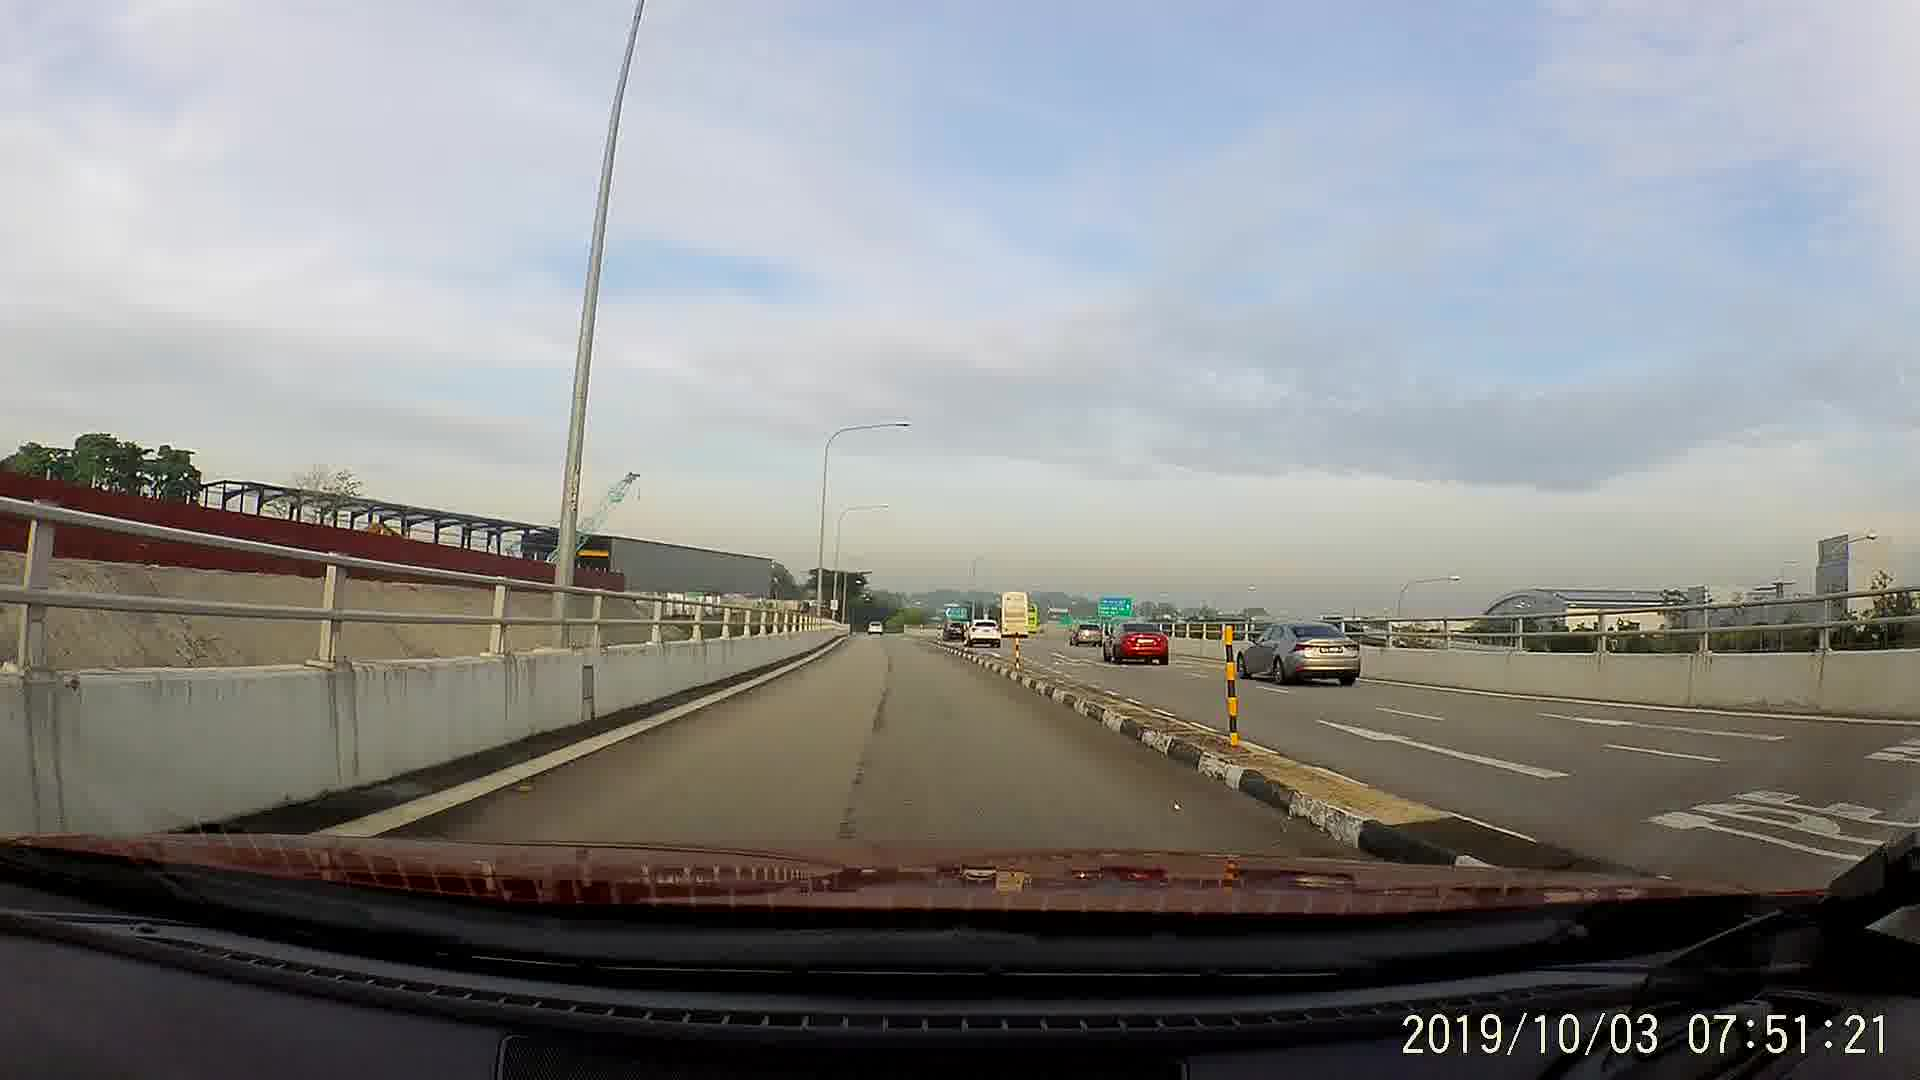bus: (998, 587, 1034, 637)
car: (1232, 611, 1367, 688), (1106, 624, 1172, 669), (1067, 616, 1104, 647), (968, 617, 1005, 647), (942, 620, 971, 640), (865, 616, 885, 636)
